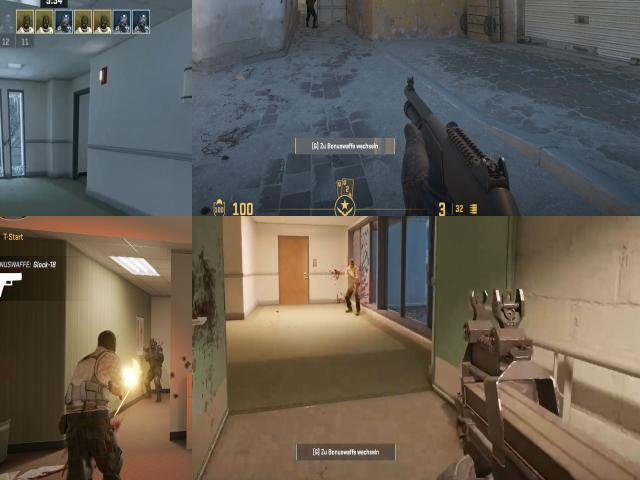CT: (147, 337, 162, 395), (306, 0, 315, 24)
CT-Head: (149, 339, 159, 353)
T: (75, 329, 119, 480), (345, 260, 358, 308)
T-Head: (97, 332, 116, 351), (347, 256, 359, 273), (358, 253, 360, 256)
